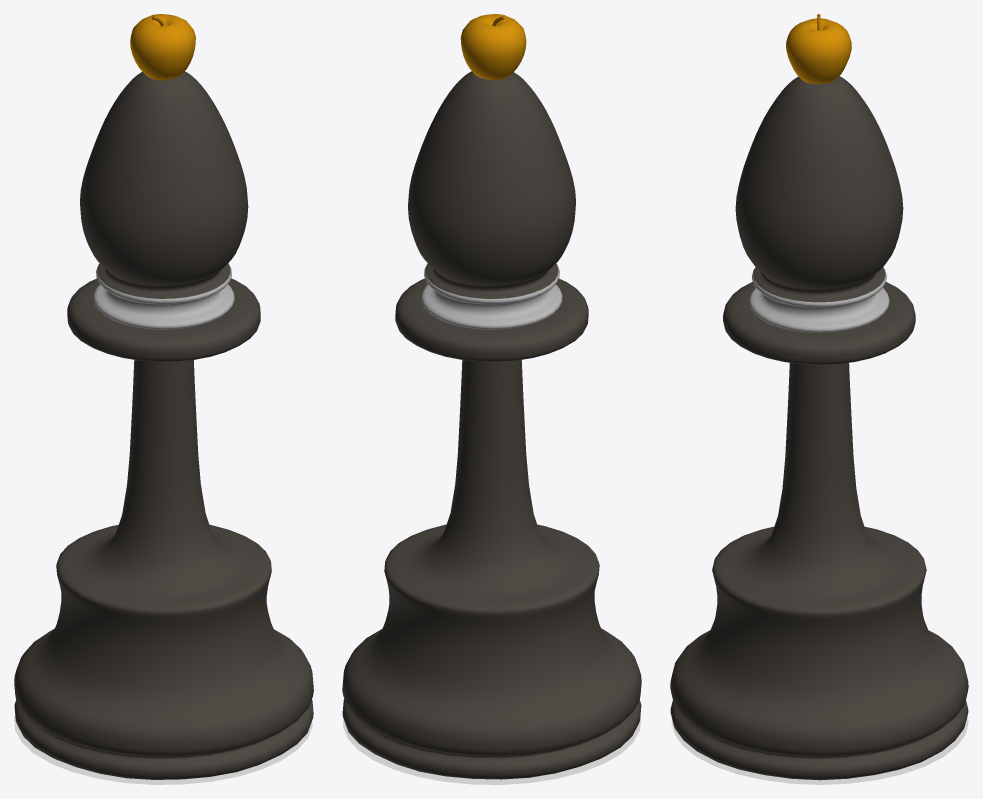
File: Bispo2.fbx
The picture shows the model from 3 angles, left to right: view 1: azimuth 30°, elevation 25°; view 2: azimuth 150°, elevation 25°; view 3: azimuth 270°, elevation 25°; orthographic projection.
Parts seen in each view (by area): view 1: Lber-m.001, nurbsToPoly1, Bonde-m.034; view 2: Lber-m.001, nurbsToPoly1, Bonde-m.034; view 3: Lber-m.001, nurbsToPoly1, Bonde-m.034.
Boxes of the visible parts, x1,y1,x2,y2 form: Lber-m.001: (14,71,313,779); nurbsToPoly1: (130,14,195,80); Bonde-m.034: (14,715,312,784); Lber-m.001: (342,71,641,779); nurbsToPoly1: (460,14,526,80); Bonde-m.034: (343,716,640,784); Lber-m.001: (670,76,968,780); nurbsToPoly1: (786,18,851,83); Bonde-m.034: (671,717,968,784).
Size of the model in its own units: 44.17 by 115 by 44.19.
